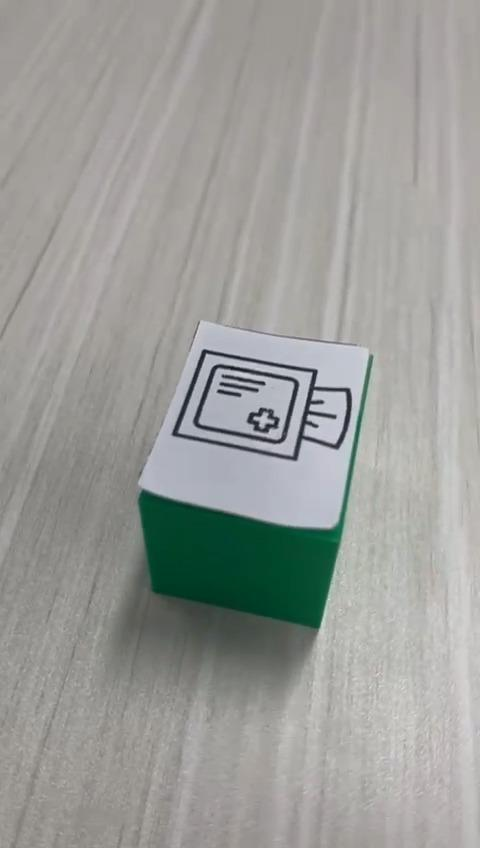Gauze: (135, 318, 373, 630)
